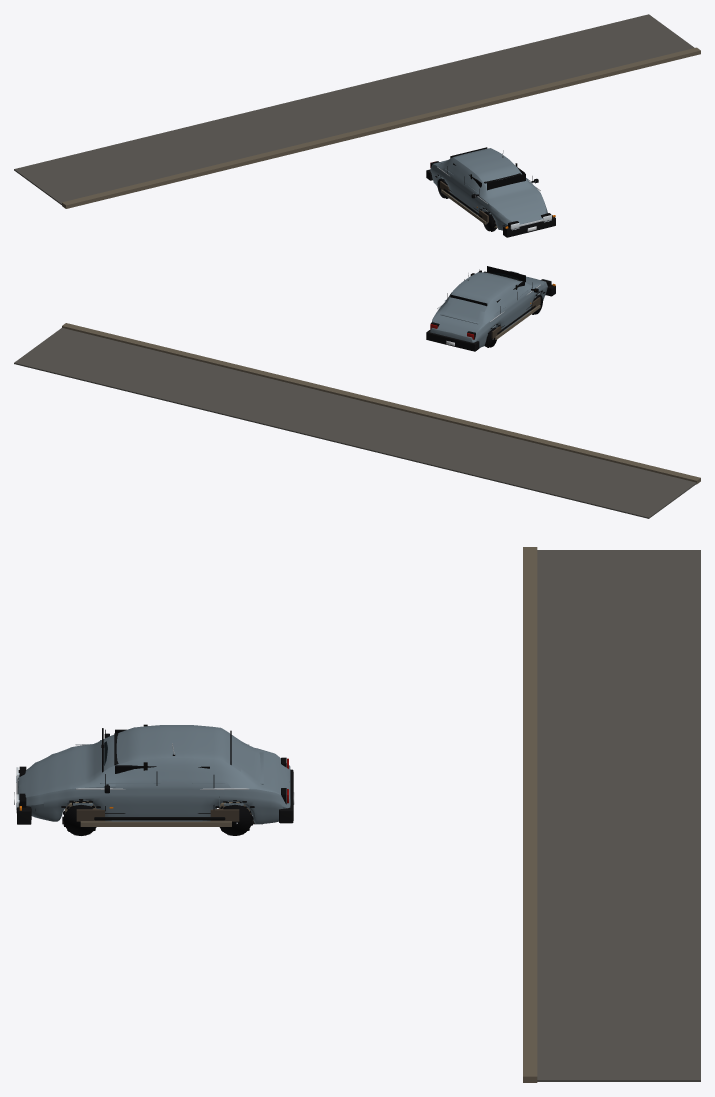
Rendered from hm_civ_sedan_v3.obj.
3 renders of one model, top to bottom at view 1: azimuth 30°, elevation 25°; view 2: azimuth 150°, elevation 25°; view 3: azimuth 270°, elevation 25°, orthographic. The views are drawn at different scales.
Parts seen in each view (by area): view 1: ground_walk, ground_curb, Sedan_Body, Sedan_fbump; view 2: ground_walk, Sedan_Body, ground_curb, Sedan_rbump; view 3: ground_walk, Sedan_Body, ground_curb, Sedan_dirt_rocker_1.
Part boxes in pixels (left/top/right/bottom): ground_walk: left=14, top=14, right=694, bottom=204; ground_curb: left=62, top=47, right=700, bottom=208; Sedan_Body: left=430, top=148, right=547, bottom=230; Sedan_fbump: left=503, top=215, right=555, bottom=237; ground_walk: left=14, top=328, right=697, bottom=518; Sedan_Body: left=430, top=272, right=547, bottom=347; ground_curb: left=62, top=323, right=700, bottom=484; Sedan_rbump: left=426, top=330, right=479, bottom=351; ground_walk: left=531, top=550, right=700, bottom=1081; Sedan_Body: left=18, top=725, right=290, bottom=824; ground_curb: left=523, top=547, right=537, bottom=1082; Sedan_dirt_rocker_1: left=80, top=821, right=231, bottom=826.
Bounding box in the file's own units: 22 × 1.73 × 12.06.
